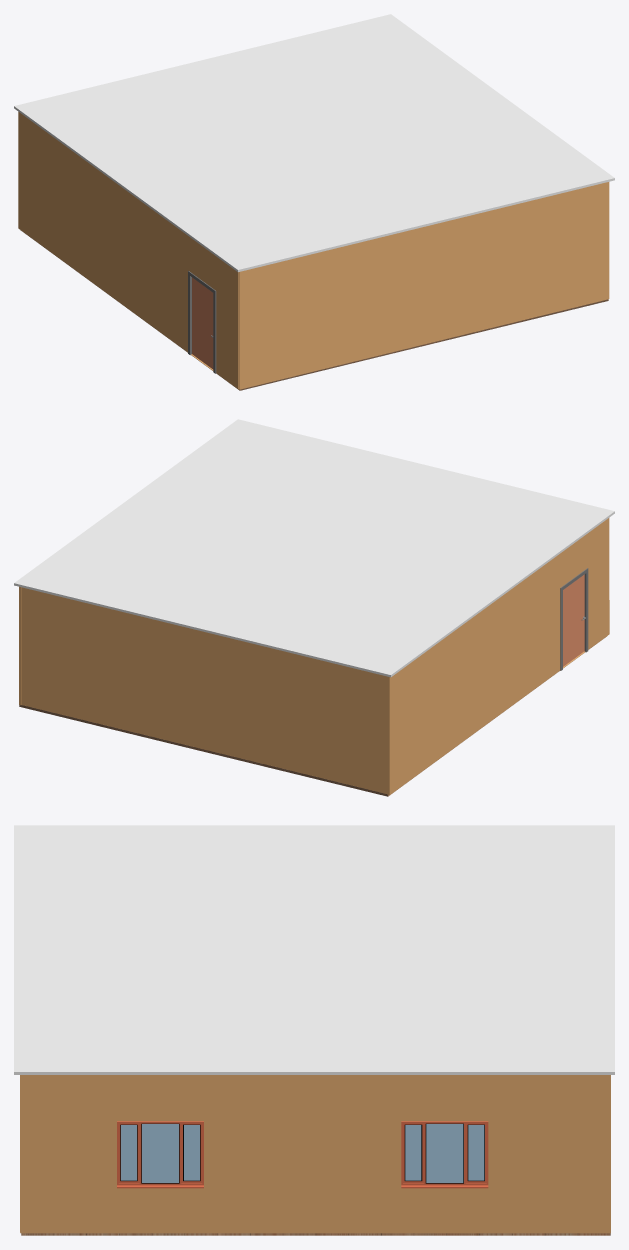
The model's file is ClassRoom.fbx.
3 renders of one model, top to bottom at view 1: azimuth 30°, elevation 25°; view 2: azimuth 150°, elevation 25°; view 3: azimuth 270°, elevation 25°, orthographic. The views are drawn at different scales.
Parts seen in each view (by area): view 1: Plane, Tahta Duvarı, Kapı Duvarı, Door, Plane.016, DoorFrame; view 2: Plane, Pano Duvarı, Kapı Duvarı, Door, Plane.016, DoorFrame; view 3: Plane, Pencere Duvarı, Pencere-2, Pencere, Plane.016.
Boxes of the visible parts, x1,y1,x2,y2 form: Plane: (14,14,614,272); Tahta Duvarı: (238,182,608,389); Kapı Duvarı: (18,112,238,389); Door: (192,277,213,369); Plane.016: (20,230,608,390); DoorFrame: (188,271,216,373); Plane: (14,419,614,677); Pano Duvarı: (21,587,387,793); Kapı Duvarı: (387,518,609,795); Door: (563,574,585,666); Plane.016: (19,636,606,796); DoorFrame: (560,568,588,670); Plane: (14,825,614,1074); Pencere Duvarı: (20,1075,610,1233); Pencere-2: (401,1121,488,1188); Pencere: (117,1121,203,1188); Plane.016: (21,1233,610,1235).
Bounding box in the file's own units: 16.83 × 5.26 × 17.23.
